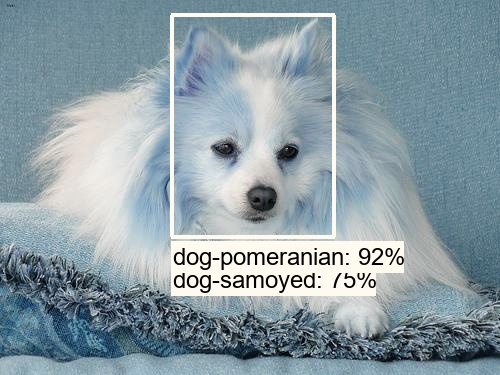dog-pomeranian: (168, 18, 326, 231)
